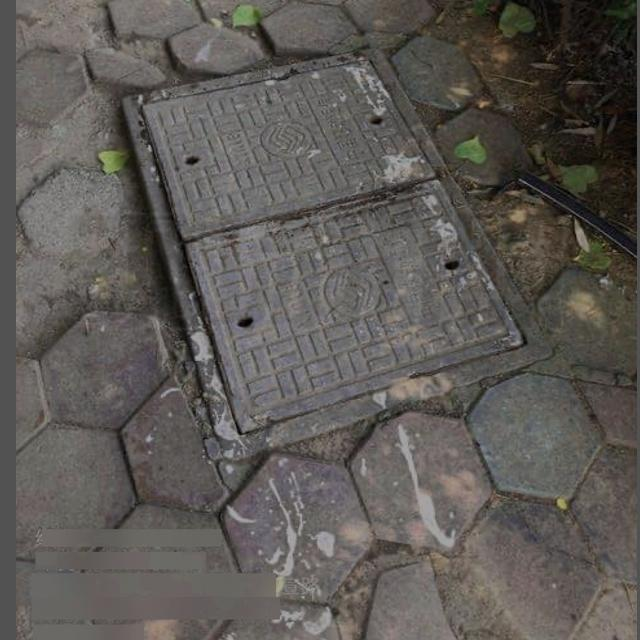good: (123, 46, 554, 458)
